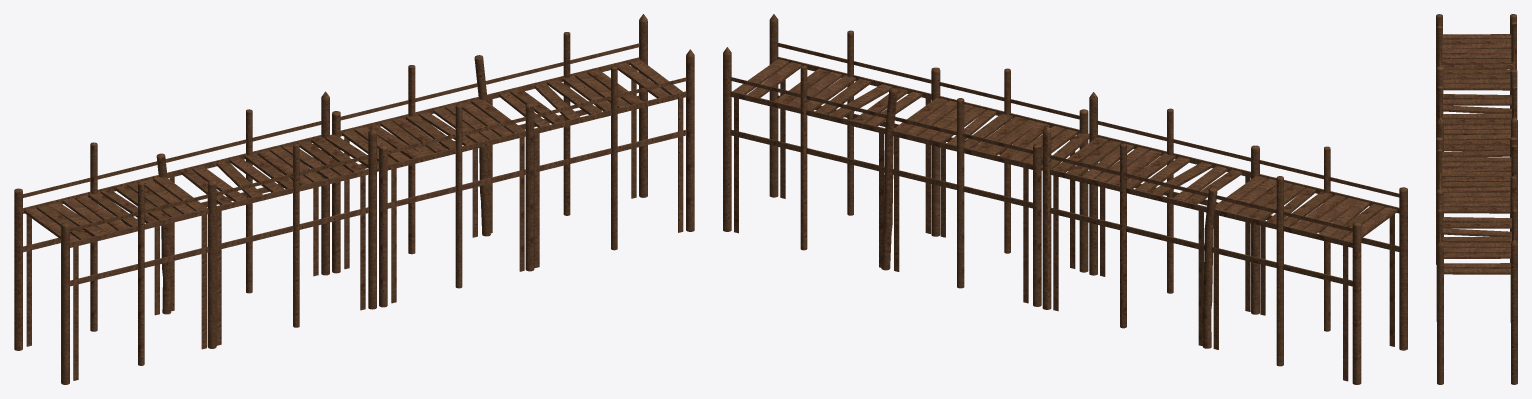
Rendered from fbxDock.fbx.
3 renders of one model, left to right at view 1: azimuth 30°, elevation 25°; view 2: azimuth 150°, elevation 25°; view 3: azimuth 270°, elevation 25°, orthographic. The views are drawn at different scales.
Visible parts, largest first — view 1: dock; view 2: dock; view 3: dock.
Boxes of the visible parts, box(x1,y1,x2,y2) form: dock: box(14, 14, 694, 384); dock: box(723, 14, 1407, 384); dock: box(1436, 14, 1517, 384).
Size of the model in its own units: 8.91 by 2.52 by 1.26.
Materials: 1 (1 with a texture image).
